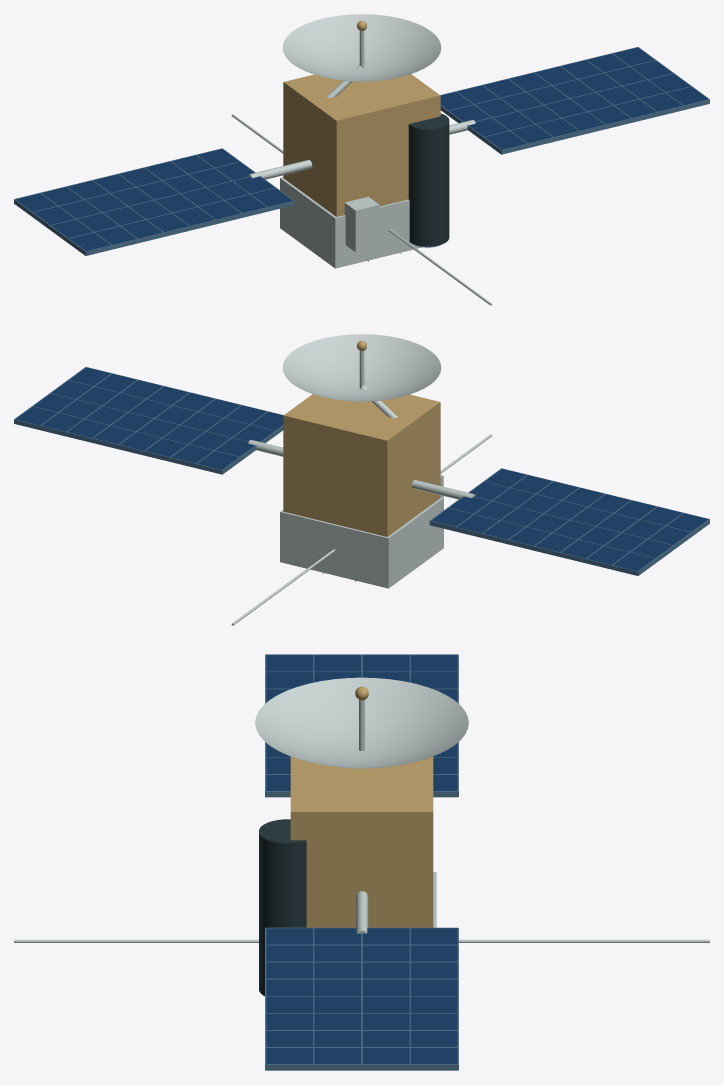
Rendered from mro.glb.
3 views of the same model, one above another, from view 1: azimuth 30°, elevation 25°; view 2: azimuth 150°, elevation 25°; view 3: azimuth 270°, elevation 25° (orthographic). The views are drawn at different scales.
Parts seen in each view (by area): view 1: solar, body, antenna, instruments; view 2: solar, body, antenna, instruments; view 3: solar, body, antenna, instruments.
Part boxes in pixels (bbox=[...]): solar: bbox=[14, 47, 709, 255]; body: bbox=[280, 74, 440, 268]; antenna: bbox=[282, 14, 441, 97]; instruments: bbox=[231, 113, 492, 305]; solar: bbox=[14, 367, 709, 575]; body: bbox=[280, 394, 443, 588]; antenna: bbox=[282, 334, 441, 417]; instruments: bbox=[231, 434, 492, 625]; solar: bbox=[265, 654, 458, 1070]; body: bbox=[290, 756, 436, 927]; antenna: bbox=[255, 677, 468, 768]; instruments: bbox=[14, 819, 709, 996].
Size of the model in its own units: 7.81 by 2.71 by 5.6.
